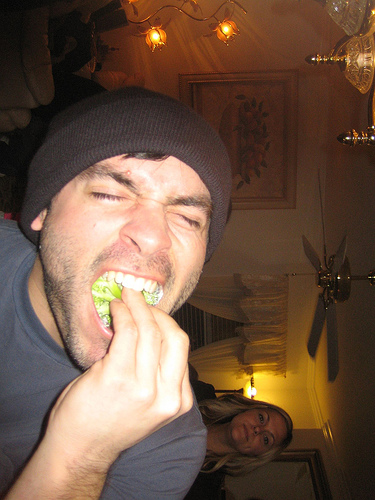broccoli: (92, 278, 121, 310)
